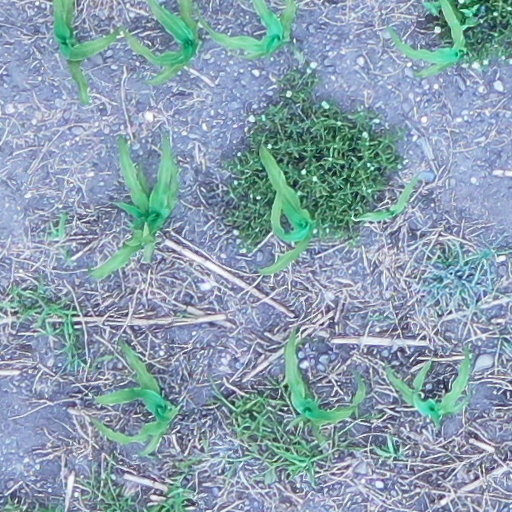planta: (84, 132, 180, 279), (88, 338, 180, 457), (283, 323, 367, 431), (254, 140, 314, 276), (384, 346, 471, 431), (350, 172, 423, 222)
